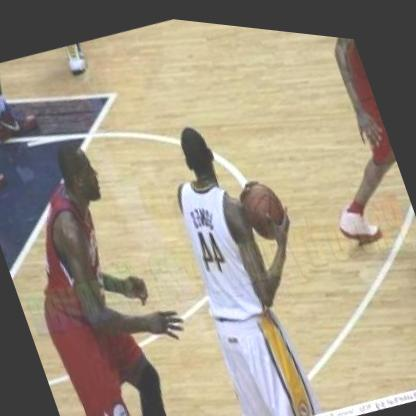basketball: (235, 161, 296, 240)
